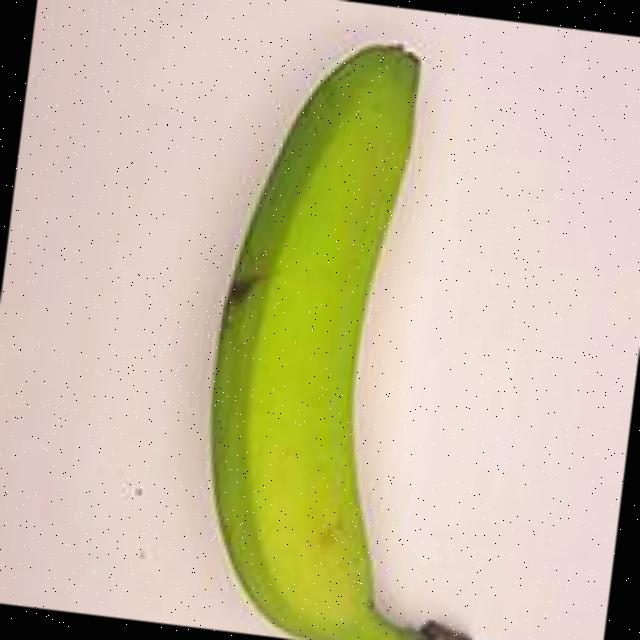Unripe: (109, 7, 560, 640)
